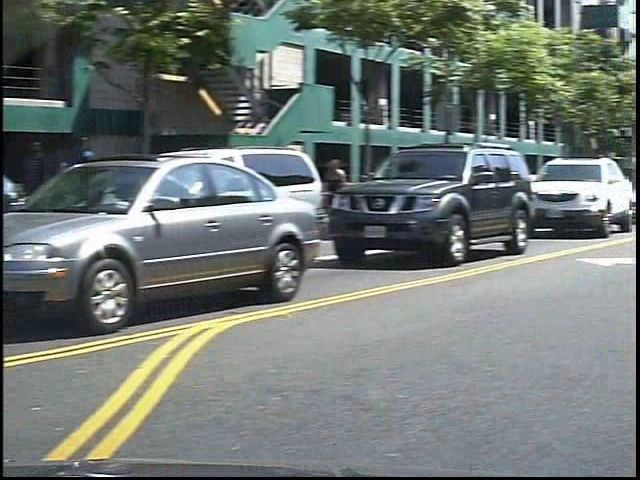person: (71, 131, 122, 259), (335, 155, 365, 231)
